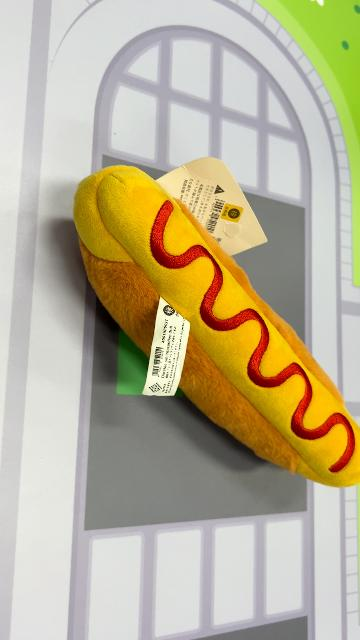hotdog: (73, 163, 359, 489)
